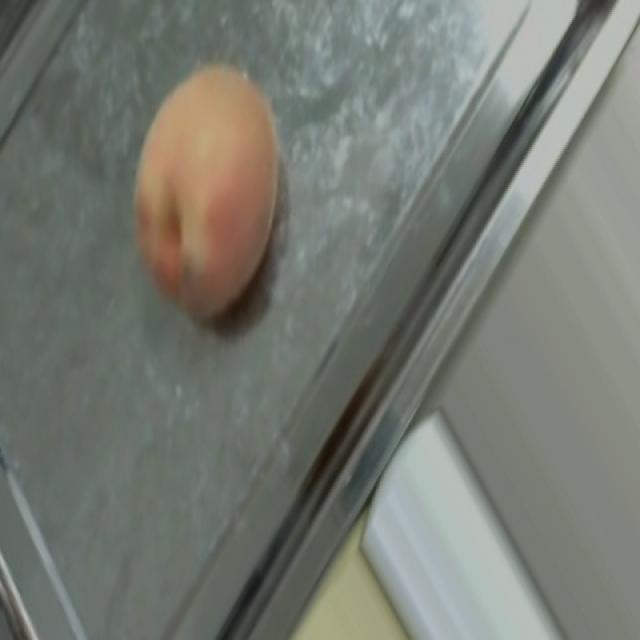Fruit: (84, 34, 320, 352)
